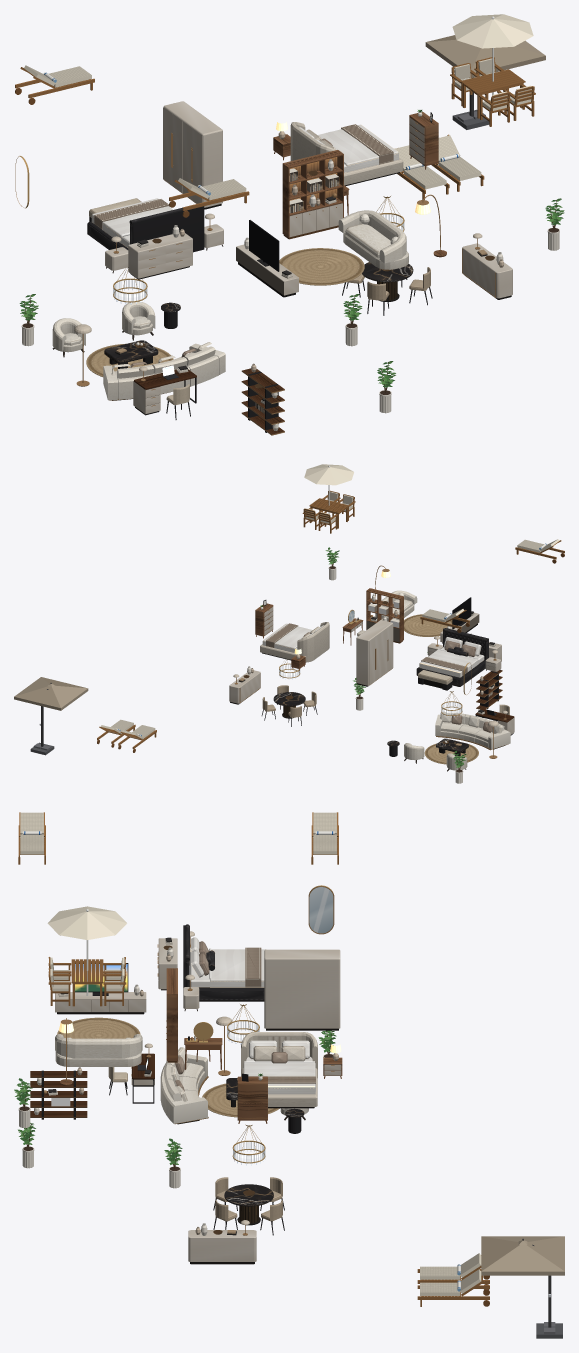
File: furniture.glb
The picture shows the model from 3 angles, top to bottom: view 1: azimuth 30°, elevation 25°; view 2: azimuth 150°, elevation 25°; view 3: azimuth 270°, elevation 25°; orthographic projection. The views are drawn at different scales.
Visible parts, largest first — view 1: furn_gardenSet_premium, furn_lounger_premium (×4), furn_lxCabinet_premium, furn_lxChest_premium, furn_lxBed_better, furn_lxBed_premium, furn_lxDecor_basic (×2), furn_lxSofa_premium, furn_lxSofa_basic, furn_parasol_premium, furn_lxCabinet_basic, furn_lxChest_better (+10 smaller); view 2: furn_lxBed_premium, furn_gardenSet_premium, furn_lxChest_premium, furn_lxBed_better, furn_lounger_premium (×4), furn_lxSofa_premium, furn_parasol_premium, furn_lxCabinet_premium, furn_lxDecor_basic (×2), furn_lxTableSet_premium, furn_lxCabinet_better, furn_lxAccent_better (+5 smaller); view 3: furn_lxChest_premium, furn_lounger_premium (×4), furn_lxBed_better, furn_gardenSet_premium, furn_lxBed_premium, furn_parasol_premium, furn_lxSofa_premium, furn_lxTableSet_premium, furn_lxSofa_basic, furn_lxCabinet_basic, furn_lxCabinet_better, furn_lxAccent_better (+8 smaller).
Boxes of the visible parts, x1,y1,x2,y2 form: furn_gardenSet_premium: (450, 14, 535, 126); furn_lounger_premium (×4): (15, 65, 484, 217); furn_lxCabinet_premium: (282, 150, 343, 239); furn_lxChest_premium: (163, 101, 222, 209); furn_lxBed_better: (290, 122, 403, 186); furn_lxBed_premium: (87, 198, 204, 252); furn_lxDecor_basic (×2): (86, 248, 364, 376); furn_lxSofa_premium: (103, 342, 225, 400); furn_lxSofa_basic: (338, 210, 408, 269); furn_parasol_premium: (425, 35, 545, 129); furn_lxCabinet_basic: (236, 220, 298, 297); furn_lxChest_better: (128, 225, 192, 279); furn_lxBed_premium: (416, 628, 488, 686); furn_gardenSet_premium: (302, 464, 355, 533); furn_lxChest_premium: (356, 620, 393, 686); furn_lxBed_better: (260, 622, 329, 662); furn_lounger_premium (×4): (97, 539, 564, 752); furn_lxSofa_premium: (435, 711, 510, 750); furn_parasol_premium: (14, 677, 88, 755); furn_lxCabinet_premium: (366, 588, 403, 643); furn_lxDecor_basic (×2): (404, 614, 478, 764); furn_lxTableSet_premium: (261, 685, 317, 726); furn_lxCabinet_better: (229, 666, 260, 704); furn_lxAccent_better: (476, 670, 502, 709); furn_lxChest_premium: (264, 949, 340, 1030); furn_lounger_premium (×4): (18, 812, 489, 1306); furn_lxBed_better: (241, 1032, 317, 1108); furn_gardenSet_premium: (47, 906, 126, 1006); furn_lxBed_premium: (183, 924, 266, 1001); furn_parasol_premium: (481, 1236, 564, 1338); furn_lxSofa_premium: (160, 1047, 208, 1124); furn_lxTableSet_premium: (213, 1177, 284, 1235); furn_lxSofa_basic: (55, 1034, 142, 1066); furn_lxCabinet_basic: (55, 963, 146, 1014); furn_lxCabinet_better: (188, 1220, 256, 1264); furn_lxAccent_better: (30, 1067, 87, 1119).
Bounding box in the file's own units: 17.58 × 9.3 × 14.48.
2 materials, 1 textured.
